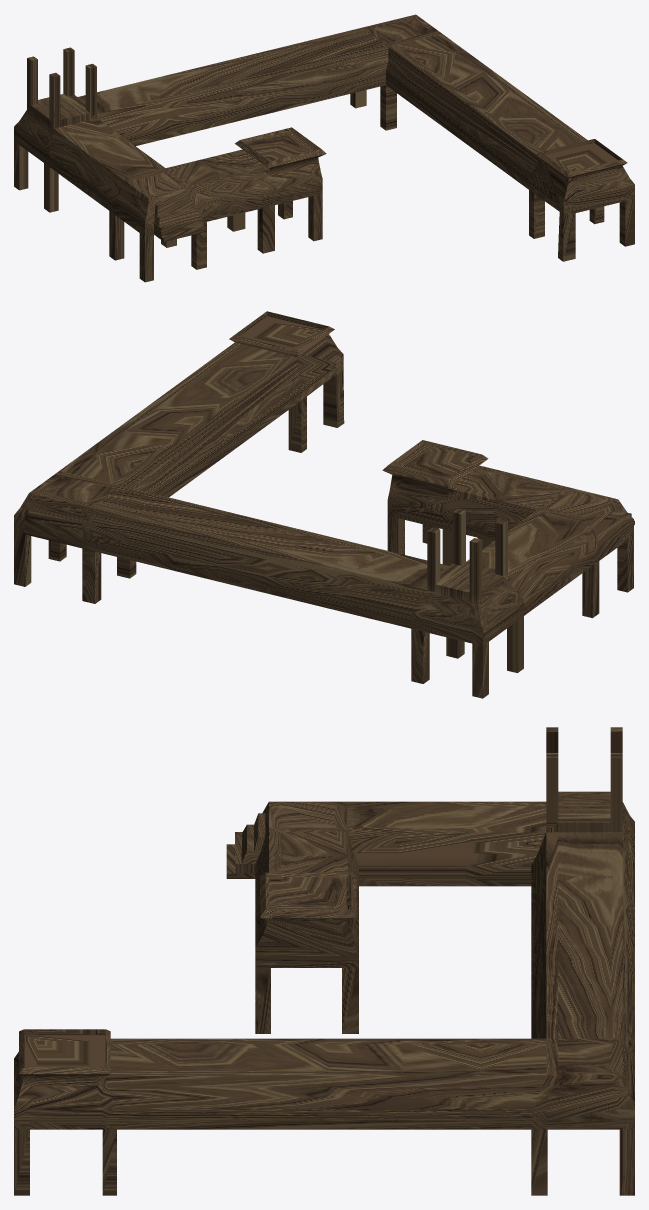
File: road.fbx
3 renders of one model, top to bottom at view 1: azimuth 30°, elevation 25°; view 2: azimuth 150°, elevation 25°; view 3: azimuth 270°, elevation 25°, orthographic. The views are drawn at different scales.
Parts seen in each view (by area): view 1: polySurface118; view 2: polySurface118; view 3: polySurface118.
Boxes of the visible parts, left/top/right/bottom form: polySurface118: left=14, top=14, right=634, bottom=282; polySurface118: left=14, top=311, right=634, bottom=698; polySurface118: left=14, top=727, right=634, bottom=1195.
Size of the model in its own units: 19.7 by 6 by 18.
1 material, 1 textured.
